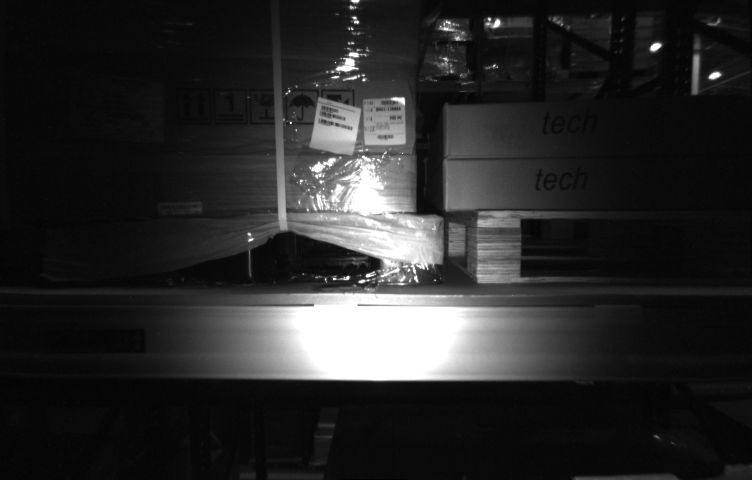True Barcode: (364, 98, 408, 146)
